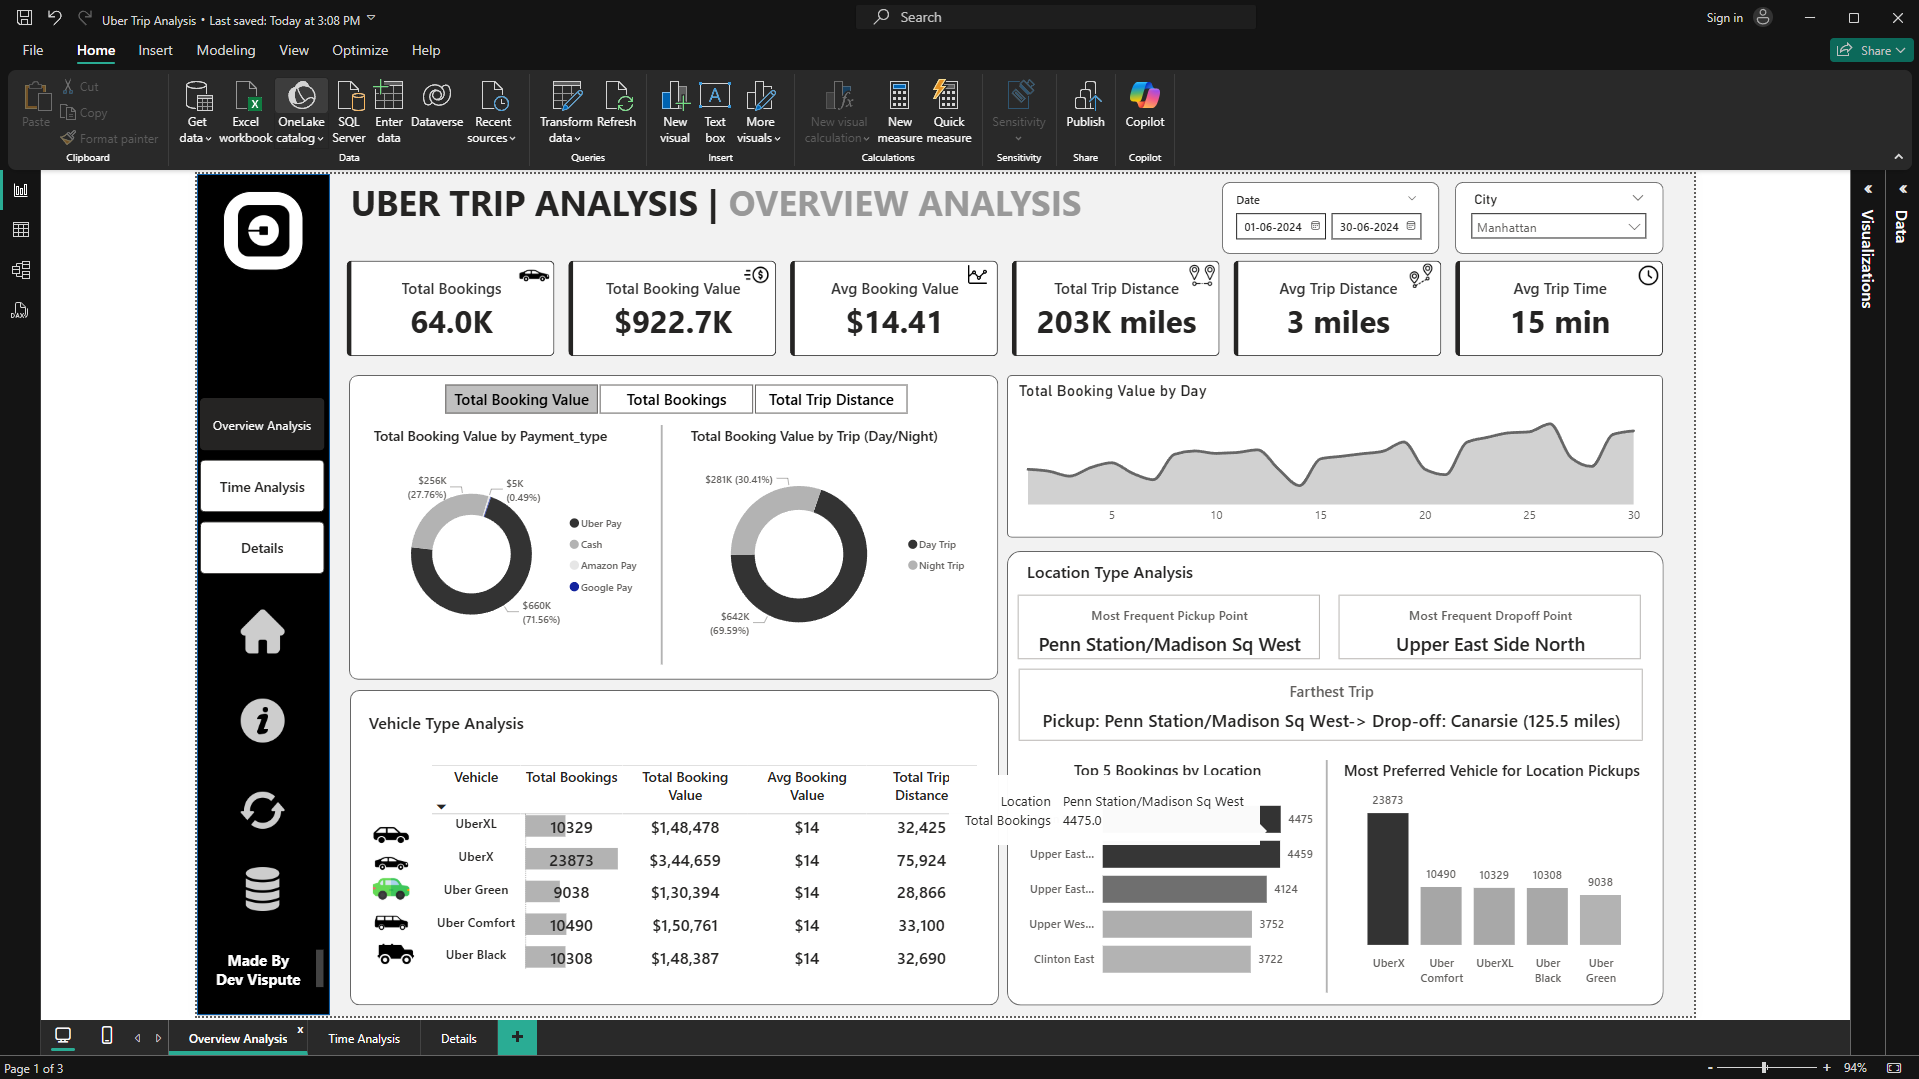

The dashboard page shown, as its layout file describes it:
{"tool":"powerbi","page":{"name":"Page 1","canvas":[1600,900],"ordinal":0},"visuals":[{"type":"shape","box":[8.6,0,142.3,900],"z":0},{"type":"textbox","box":[171.4,9.7,697.6,69],"z":1000},{"type":"cardVisual","fields":{"Data":["Trip Details.Total Booking","Trip Details.Total Booking Amount","Trip Details.Average Booking Amount","Trip Details.Total Trip Distance","Trip Details.Avg Trip Distance","Trip Details.Avg Trip Time"]},"box":[160.6,88.4,1415.6,120.8],"z":2000},{"type":"image","box":[556.3,96,88.4,43.1],"z":3000},{"type":"image","box":[1264.7,98.1,88.4,37.7],"z":4000},{"type":"image","box":[1032.9,98.1,88.4,38.8],"z":5000},{"type":"image","box":[1504,98.1,88.4,35.6],"z":6000},{"type":"image","box":[800,98.1,88.4,34.5],"z":7000},{"type":"image","box":[322.4,100.3,88.4,32.3],"z":8000},{"type":"shape","box":[160.6,235,700.8,325.6],"z":9000},{"type":"slicer","fields":{"Values":["Dynamic Measure.Dynamic Measure"]},"box":[265.2,238.3,491.6,53.9],"z":10000},{"type":"donutChart","fields":{"Y":["Trip Details.Total Booking"],"Category":["Trip Details.Payment_type"]},"box":[188.7,292.2,299.7,240.4],"z":11000},{"type":"donutChart","title":"Total Booking  by Trip (Day /Night )","fields":{"Y":["Trip Details.Total Booking"],"Category":["Trip Details.Trip Type (Day /Night )"]},"box":[520.8,292.2,299.7,240.4],"z":12000},{"type":"shape","box":[160.6,583.3,700.8,299.7],"z":13000},{"type":"pivotTable","fields":{"Rows":["Trip Details.Vehicle"],"Values":["Trip Details.Total Booking","Trip Details.Total Booking Value","Trip Details.Average Booking Amount","Trip Details.Total Trip Distance Measure"]},"box":[265.4,621.5,585.4,251.5],"z":14000},{"type":"image","box":[188.5,698.5,73.1,56.2],"z":15000},{"type":"image","box":[188.5,666.9,73.1,52.3],"z":16000},{"type":"image","box":[188.5,773.1,73.1,52.3],"z":17000},{"type":"image","box":[188.5,733.1,73.1,48.5],"z":18000},{"type":"image","box":[188.5,806.2,73.1,56.2],"z":19000},{"type":"card","fields":{"Values":["Trip Details.Title For Grid"]},"box":[160.6,583.3,195.1,49.6],"z":19001},{"type":"shape","box":[875.5,238.3,700.8,185],"z":19002},{"type":"areaChart","fields":{"Category":["Calender Table.Date.Variation.Date Hierarchy.Day"],"Y":["Trip Details.Total Booking"]},"box":[875.5,238.3,700.8,185.4],"z":19003}]}

Visuals, with their boxes on the page's 1600x900 design canvas (x1, y1, x2, y2). These are canvas units, not pixel positions in the 1919x1079 screenshot, which may show the page scaled, cropped or inside an application window:
shape: 9 0 151 900
textbox: 171 10 869 79
cardVisual - Trip Details.Total Booking x Trip Details.Total Booking Amount: 161 88 1576 209
image: 556 96 645 139
image: 1265 98 1353 136
image: 1033 98 1121 137
image: 1504 98 1592 134
image: 800 98 888 133
image: 322 100 411 133
shape: 161 235 861 561
slicer - Dynamic Measure.Dynamic Measure: 265 238 757 292
donutChart - Trip Details.Total Booking x Trip Details.Payment_type: 189 292 488 533
"Total Booking  by Trip (Day /Night )" donutChart: 521 292 820 533
shape: 161 583 861 883
pivotTable - Trip Details.Vehicle x Trip Details.Total Booking: 265 622 851 873
image: 188 698 262 755
image: 188 667 262 719
image: 188 773 262 825
image: 188 733 262 782
image: 188 806 262 862
card - Trip Details.Title For Grid: 161 583 356 633
shape: 876 238 1576 423
areaChart - Calender Table.Date.Variation.Date Hierarchy.Day x Trip Details.Total Booking: 876 238 1576 424
